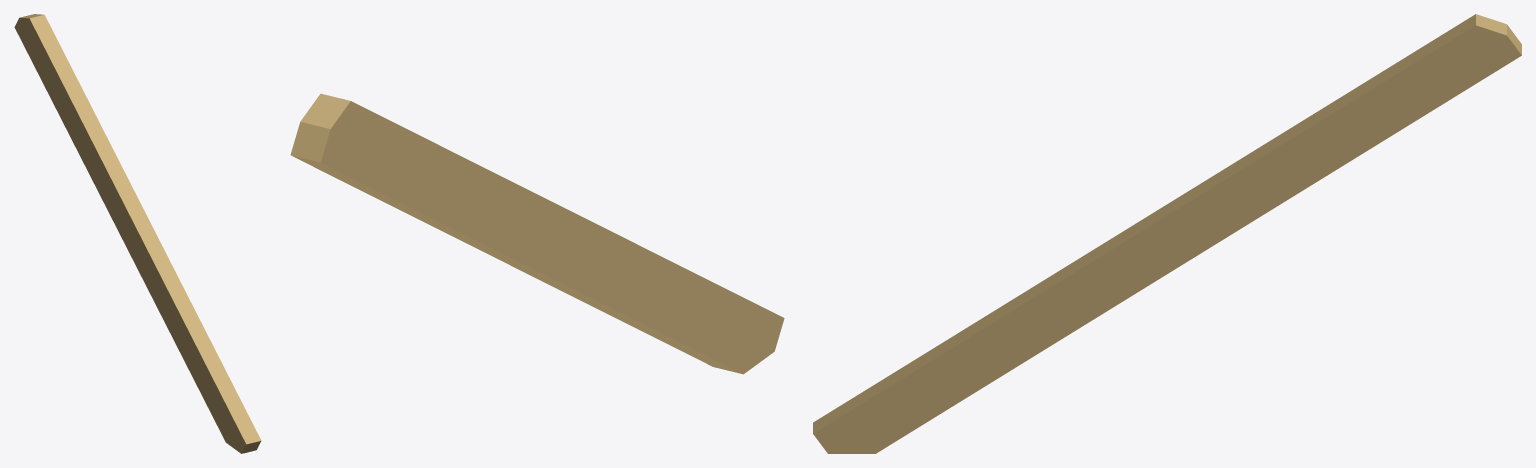
3 renders of one model, left to right at view 1: azimuth 30°, elevation 25°; view 2: azimuth 150°, elevation 25°; view 3: azimuth 270°, elevation 25°, orthographic. The views are drawn at different scales.
Visible parts, largest first — view 1: L1-3-S12-328-WEB03; view 2: L1-3-S12-328-WEB03; view 3: L1-3-S12-328-WEB03.
Boxes of the visible parts, <box> form: L1-3-S12-328-WEB03: <box>14,14,261,453</box>; L1-3-S12-328-WEB03: <box>290,93,784,374</box>; L1-3-S12-328-WEB03: <box>813,14,1521,453</box>.
Size of the model in its own units: 0.045 by 0.7948 by 1.19.
